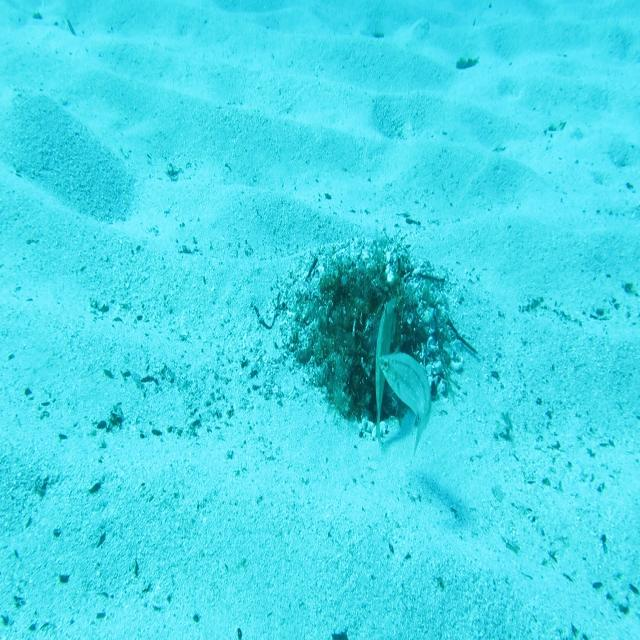FAN: (372, 292, 399, 454)
core_nest: (343, 278, 386, 310)
female: (377, 349, 434, 458)
nest: (269, 227, 467, 458)
vegetation: (454, 55, 478, 72)
